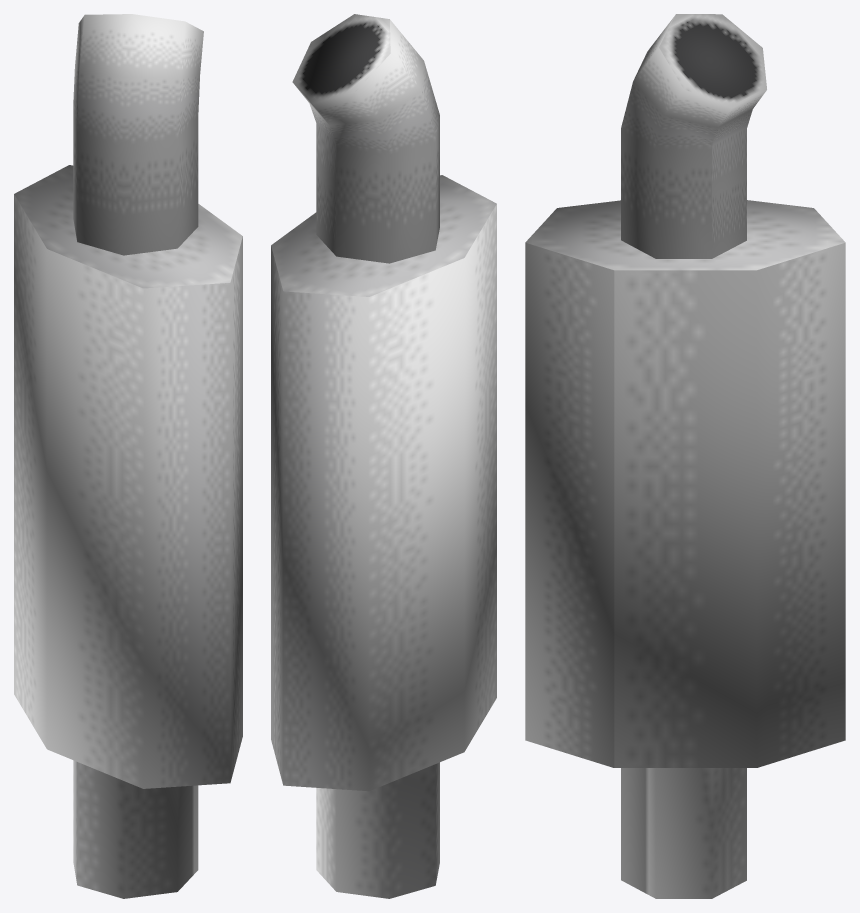
The model's file is Muffler_Hand.fbx.
3 renders of one model, left to right at view 1: azimuth 30°, elevation 25°; view 2: azimuth 150°, elevation 25°; view 3: azimuth 270°, elevation 25°, orthographic.
Parts seen in each view (by area): view 1: Muffler; view 2: Muffler; view 3: Muffler.
Part boxes in pixels (bbox=[...]): Muffler: bbox=[14, 14, 242, 898]; Muffler: bbox=[271, 14, 496, 898]; Muffler: bbox=[525, 14, 845, 898].
Size of the model in its own units: 0.0723 by 0.3722 by 0.1261.
